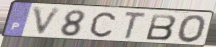8: (59, 9, 87, 38)
B: (144, 13, 178, 41)
C: (89, 11, 117, 38)
O: (176, 14, 208, 44)
T: (123, 11, 148, 41)
V: (31, 6, 64, 38)
